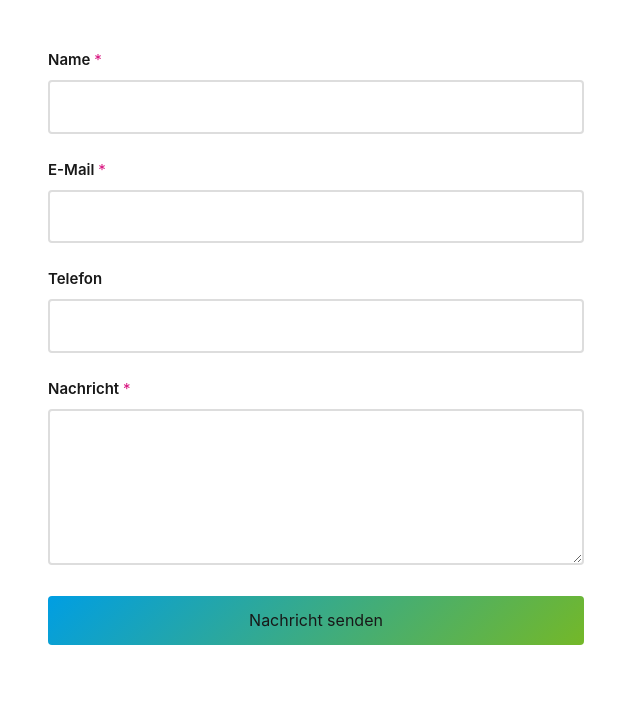
it: ContactForm › Validierung › zeigt Fehler bei ungültigem E-Mail-Format
Type "Max Mustermann" into the field with id "name" at (316,107), box 48,80 -> 584,134
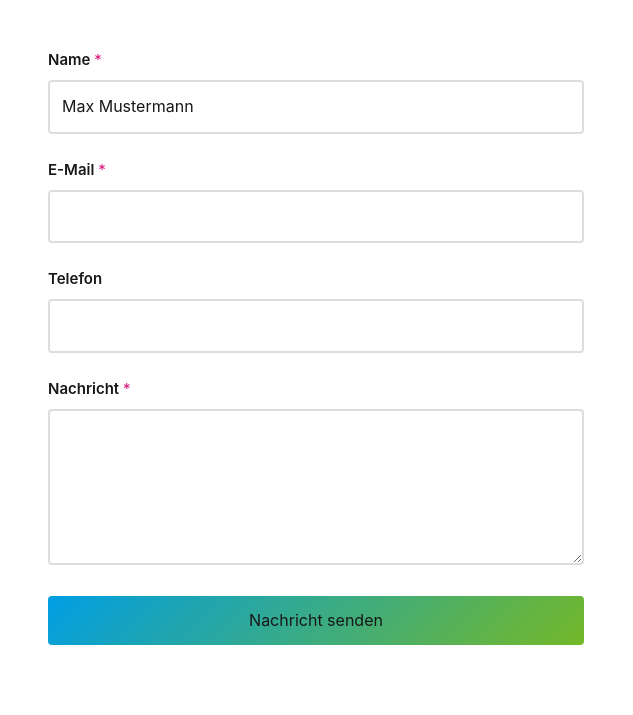
Type "keine-email" into the field with id "email" at (316,216), box 48,190 -> 584,243
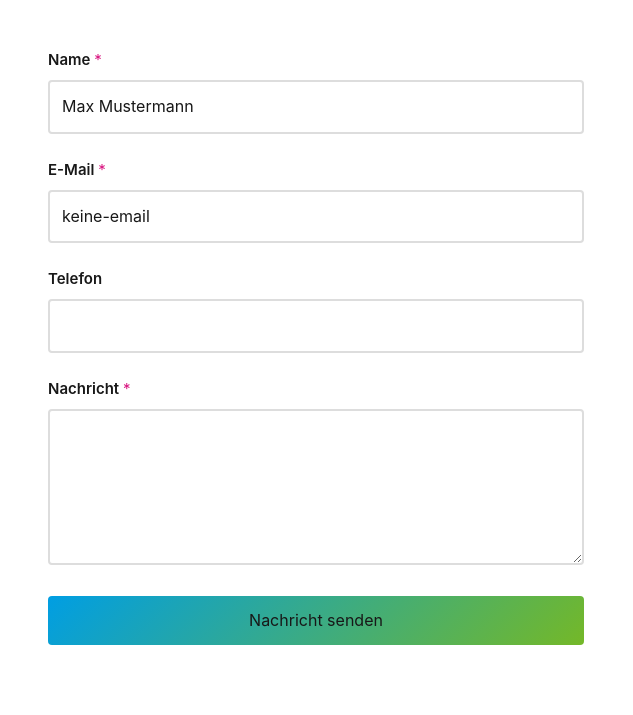
Type "Eine ausreichend lange Nachricht." into the text box with id "message" at (316,487), box 48,409 -> 584,565
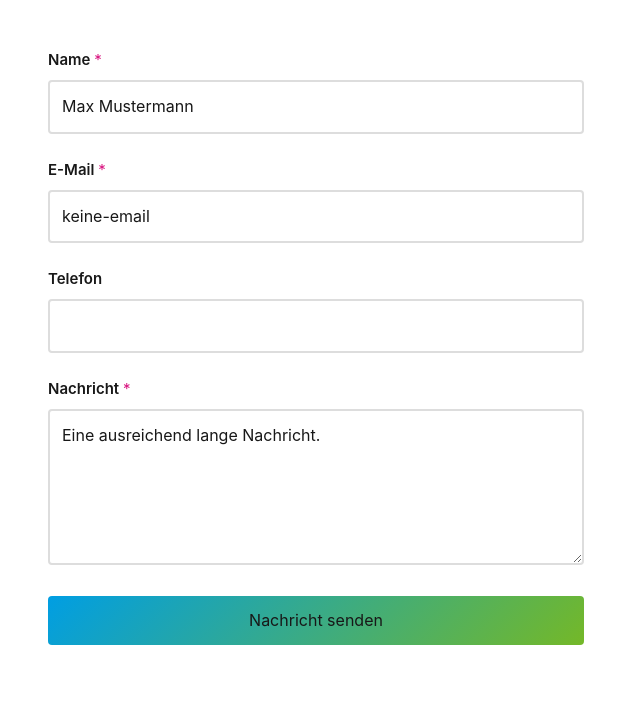
Submit the form
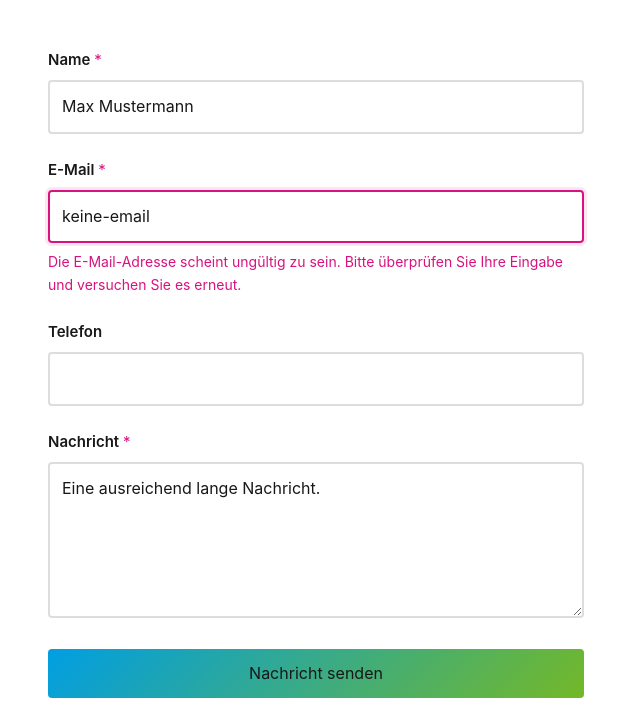
Result: the text with id "email-error" is shown at 48,251 -> 584,296
Result: the text with id "email-error" shows "ungültig" at 48,253 -> 563,293
